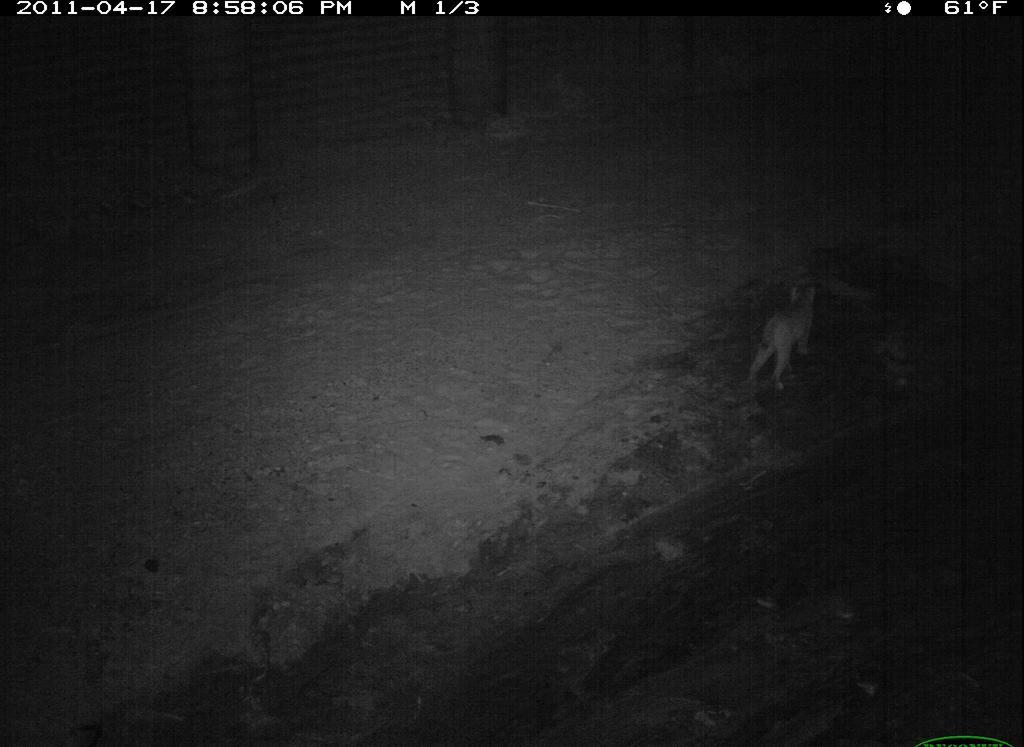bobcat: (734, 258, 847, 397)
